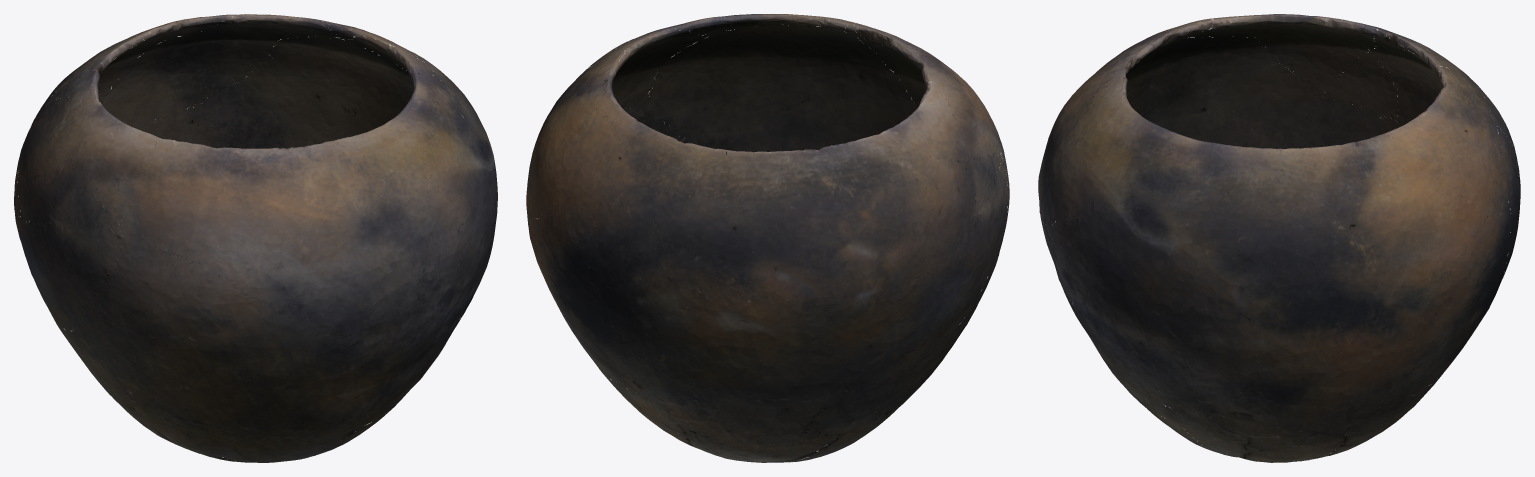
The model's file is Objeto_12_4k-b.glb.
The picture shows the model from 3 angles, left to right: view 1: azimuth 30°, elevation 25°; view 2: azimuth 150°, elevation 25°; view 3: azimuth 270°, elevation 25°; orthographic projection.
Parts seen in each view (by area): view 1: Mesh_0; view 2: Mesh_0; view 3: Mesh_0.
Boxes of the visible parts, box(x1,y1,x2,y2) form: Mesh_0: box(14, 14, 497, 462); Mesh_0: box(526, 14, 1009, 462); Mesh_0: box(1038, 14, 1520, 462).
Size of the model in its own units: 0.2521 by 0.2103 by 0.2522.
Materials: 1 (1 with a texture image).
